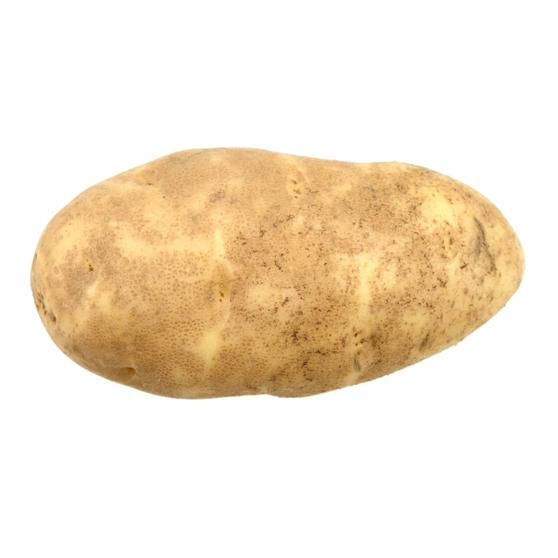potato: (30, 143, 527, 400)
